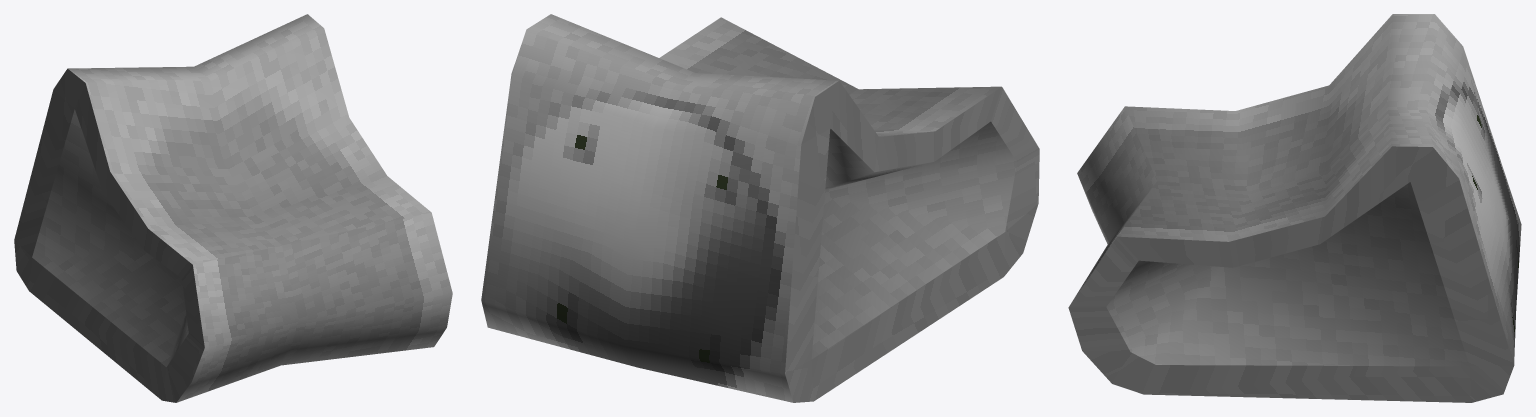
File: ElbowPad_Ground_R.fbx
3 views of the same model, side by side, from view 1: azimuth 30°, elevation 25°; view 2: azimuth 150°, elevation 25°; view 3: azimuth 270°, elevation 25° (orthographic). The views are drawn at different scales.
Parts seen in each view (by area): view 1: ElbowPad_Ground_R; view 2: ElbowPad_Ground_R; view 3: ElbowPad_Ground_R.
Part boxes in pixels (<box>): ElbowPad_Ground_R: <box>14,14,452,402</box>; ElbowPad_Ground_R: <box>481,14,1039,402</box>; ElbowPad_Ground_R: <box>1068,14,1521,402</box>.
Size of the model in its own units: 0.6107 by 0.5061 by 0.7961.
